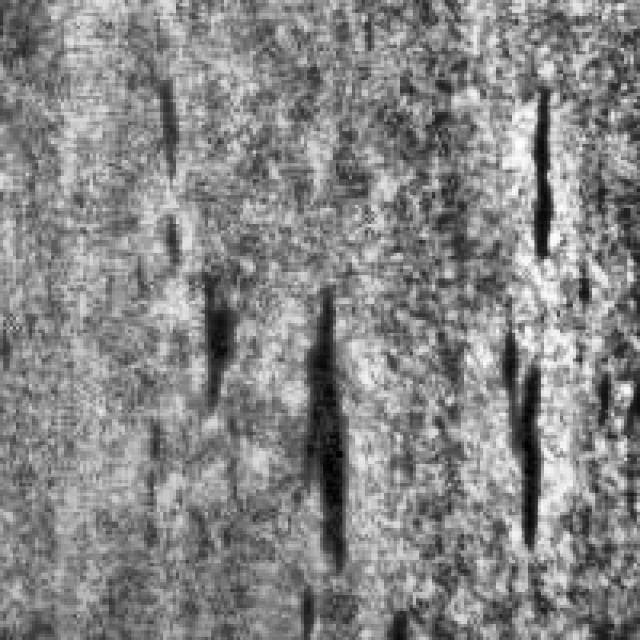Patches: (269, 282, 365, 586), (131, 180, 240, 422), (477, 300, 557, 580), (490, 77, 570, 269), (131, 67, 189, 189)
